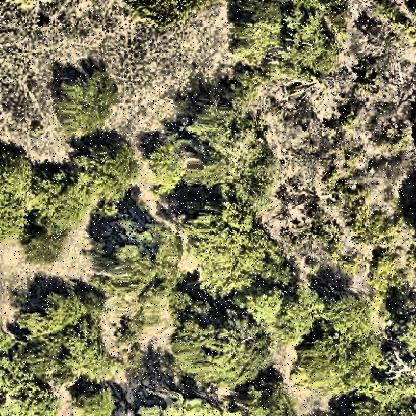tree-top: (187, 204, 293, 296), (190, 87, 278, 197), (297, 294, 391, 396), (169, 307, 277, 387), (22, 284, 108, 367), (111, 224, 189, 298), (50, 66, 124, 136), (70, 137, 142, 207), (284, 9, 344, 87), (27, 164, 89, 234), (1, 356, 61, 416), (146, 132, 186, 194), (234, 19, 279, 72), (142, 389, 227, 416), (349, 203, 401, 247), (236, 382, 295, 416), (1, 140, 33, 196), (366, 249, 408, 291), (72, 386, 128, 416), (29, 229, 67, 271), (1, 192, 29, 239)
